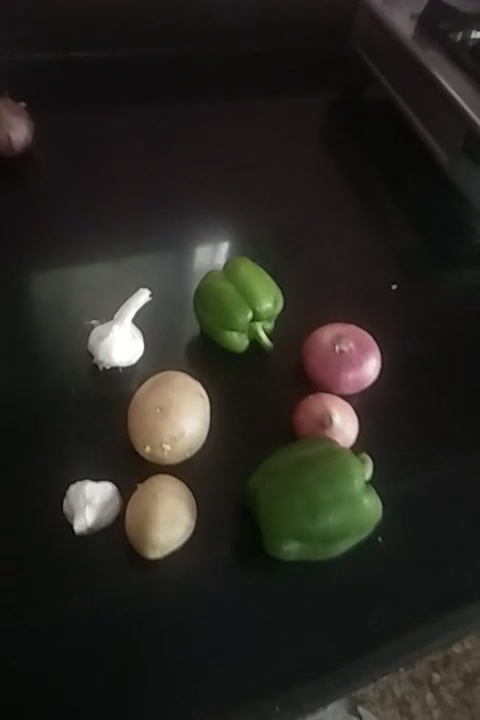capsicum: (242, 433, 390, 566), (196, 242, 295, 370)
garlic: (59, 471, 130, 553), (88, 292, 156, 377)
onion: (307, 317, 382, 402), (291, 389, 381, 457), (1, 91, 30, 164)
potato: (127, 374, 216, 462), (127, 472, 201, 564)
